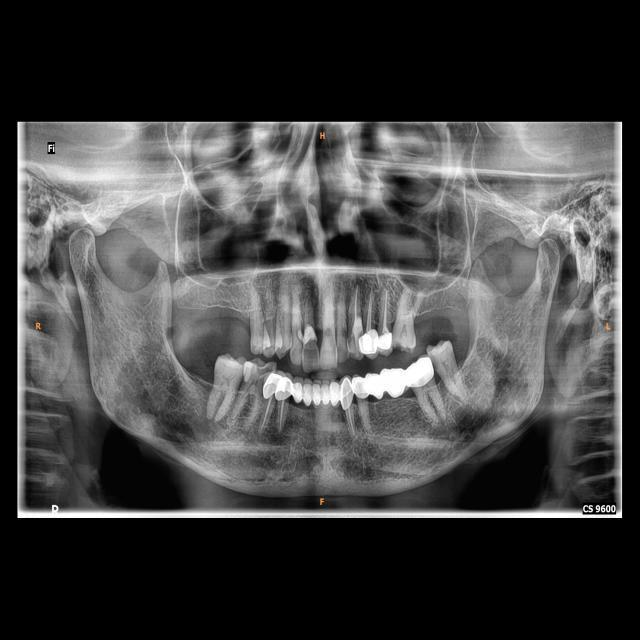dentin-curugu: (306, 340, 318, 367), (254, 364, 272, 376), (340, 323, 349, 344), (348, 333, 357, 352)
dolgu: (303, 322, 318, 345), (295, 327, 303, 342)
kanal-tedavisi: (351, 287, 362, 331), (364, 290, 375, 330), (381, 291, 390, 333), (260, 375, 278, 396), (263, 397, 273, 430), (346, 405, 356, 438), (278, 396, 285, 432)
kaplama: (405, 355, 436, 388), (351, 372, 366, 402), (359, 331, 378, 354), (276, 376, 292, 402), (342, 377, 354, 409), (375, 331, 392, 349)
kopru: (292, 377, 343, 409), (367, 368, 411, 403)
